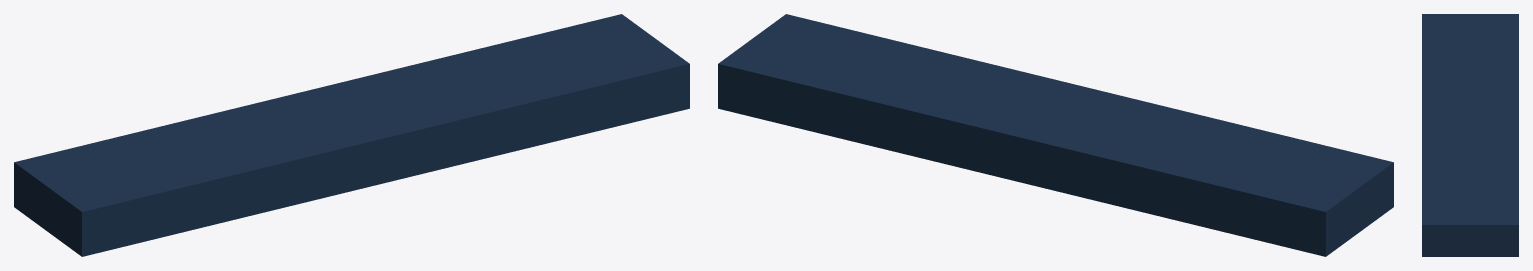
File: vessel_feeder_empty.dae
3 renders of one model, left to right at view 1: azimuth 30°, elevation 25°; view 2: azimuth 150°, elevation 25°; view 3: azimuth 270°, elevation 25°, orthographic. The views are drawn at different scales.
Parts seen in each view (by area): view 1: main_hull, stern_hull, bow_section_0, bow_section_2; view 2: main_hull, stern_hull, bow_section_2, bow_section_1; view 3: main_hull, stern_hull, bow_section_0, bow_section_1, bow_section_2, bow_section_3.
Boxes of the visible parts, x1,y1,x2,y2 form: main_hull: (14,14,689,256); stern_hull: (293,83,408,142); bow_section_0: (314,94,387,137); bow_section_2: (321,97,379,126); main_hull: (718,14,1393,256); stern_hull: (1001,83,1115,142); bow_section_2: (1031,96,1086,127); bow_section_1: (1020,95,1091,129); main_hull: (1422,14,1518,256); stern_hull: (1426,109,1514,129); bow_section_0: (1429,115,1511,123); bow_section_1: (1436,115,1504,123); bow_section_2: (1444,115,1496,123); bow_section_3: (1451,115,1488,123).
Bounding box in the file's own units: 113 × 22 × 8.
